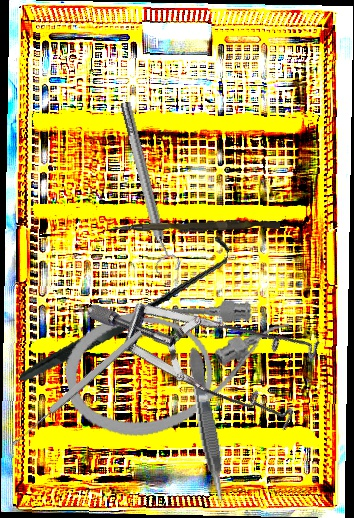Cannula: (56, 282, 305, 449)
Fixation Ring: (112, 98, 183, 276)
Hook Surgical: (19, 207, 231, 412)
Pusher: (114, 216, 281, 238)
Speculum: (84, 207, 349, 482)
Surgical Spoon: (9, 328, 145, 448)
Tissue Forceps: (185, 345, 231, 508)
